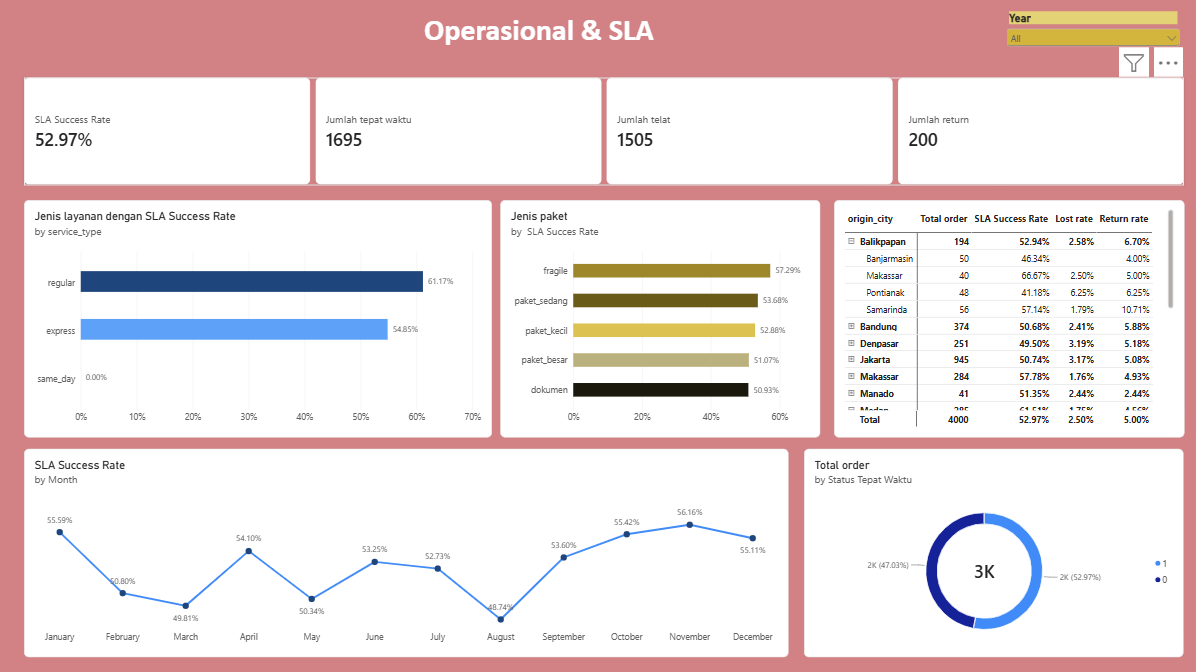

This screenshot's page, from the dashboard's own definition file:
{"tool":"powerbi","page":{"name":"Operasional & SLA","canvas":[1920,1080],"ordinal":2},"visuals":[{"type":"textbox","box":[680.4,18.1,506.7,106.8],"z":0},{"type":"cardVisual","fields":{"Data":["measure.SLA Success Rate","measure.Jumlah tepat waktu","measure.Jumlah telat","measure.Jumlah return"]},"box":[39.1,124.8,1856.7,171.3],"z":1000},{"type":"barChart","fields":{"Category":["shipments.service_type"],"Y":["measure.SLA Success Rate"]},"box":[39.1,320.3,748.6,379.9],"z":2000},{"type":"pivotTable","fields":{"Rows":["routes.origin_city","routes.destination_city"],"Values":["measure.Total order","measure.SLA Success Rate","measure.Lost rate","measure.Return rate"]},"box":[1335.2,320.3,560.5,379.9],"z":3000},{"type":"lineChart","fields":{"Category":["shipments.pickup_date.Variation.Date Hierarchy.Year","shipments.pickup_date.Variation.Date Hierarchy.Quarter","shipments.pickup_date.Variation.Date Hierarchy.Month","shipments.pickup_date.Variation.Date Hierarchy.Day"],"Y":["measure.SLA Success Rate"]},"box":[39.1,718.8,1223.5,333.3],"z":4000},{"type":"donutChart","fields":{"Category":["shipments.Status Tepat Waktu"],"Y":["measure.Total order"]},"box":[1288.7,718.8,607.1,333.3],"z":5000},{"type":"slicer","fields":{"Values":["shipments.pickup_date.Variation.Date Hierarchy.Year"]},"box":[1608.8,18.1,285.9,95.9],"z":6000},{"type":"barChart","fields":{"Category":["shipments.package_type"],"Y":["measure.SLA Success Rate"]},"box":[802.6,320.3,512.1,379.9],"z":7000}]}

Visuals, with their boxes in screenshot pixels (x1, y1, x2, y2), scaled from the page's 1920x1080 canvas onto the 1196x672 screenshot:
textbox: 424, 11, 739, 78
cardVisual - measure.SLA Success Rate x measure.Jumlah tepat waktu: 24, 78, 1181, 184
barChart - shipments.service_type x measure.SLA Success Rate: 24, 199, 491, 436
pivotTable - routes.origin_city x routes.destination_city: 832, 199, 1181, 436
lineChart - shipments.pickup_date.Variation.Date Hierarchy.Year x shipments.pickup_date.Variation.Date Hierarchy.Quarter: 24, 447, 786, 655
donutChart - shipments.Status Tepat Waktu x measure.Total order: 803, 447, 1181, 655
slicer - shipments.pickup_date.Variation.Date Hierarchy.Year: 1002, 11, 1180, 71
barChart - shipments.package_type x measure.SLA Success Rate: 500, 199, 819, 436
